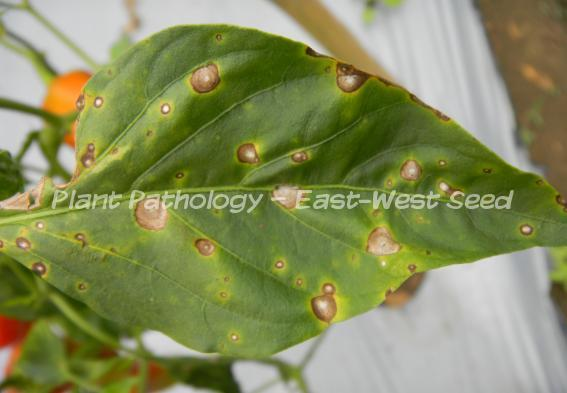black-spot: (171, 52, 266, 176)
